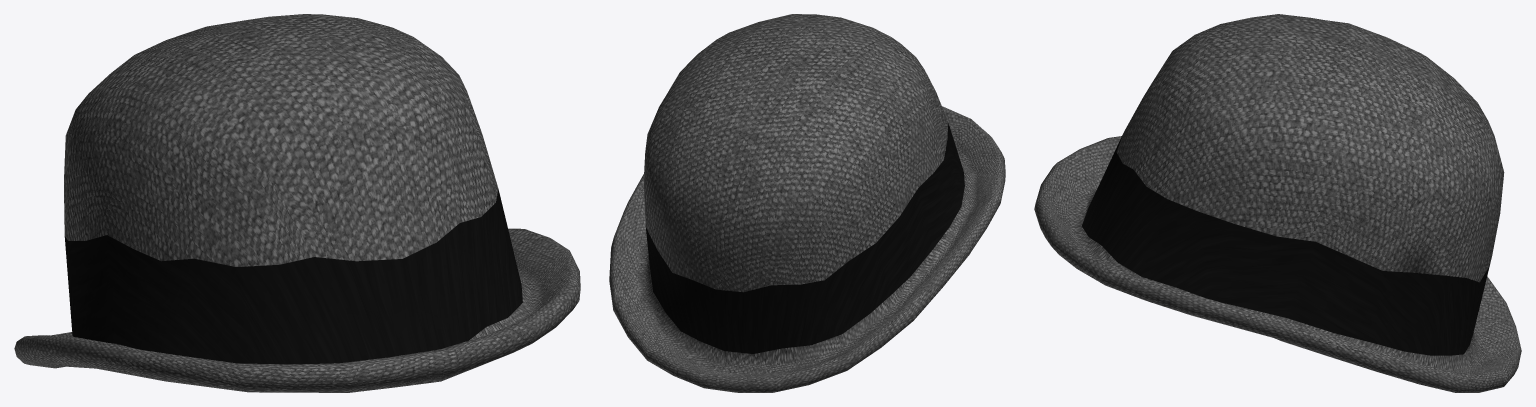
The model's file is Hat 11.FBX.
3 views of the same model, side by side, from view 1: azimuth 30°, elevation 25°; view 2: azimuth 150°, elevation 25°; view 3: azimuth 270°, elevation 25° (orthographic). The views are drawn at different scales.
Parts seen in each view (by area): view 1: hat 11; view 2: hat 11; view 3: hat 11.
Boxes of the visible parts, x1,y1,x2,y2 form: hat 11: (14, 14, 580, 392); hat 11: (609, 14, 1005, 392); hat 11: (1034, 14, 1521, 392).
Bounding box in the file's own units: 22.73 × 18.88 × 25.82.
Materials: 1 (1 with a texture image).
